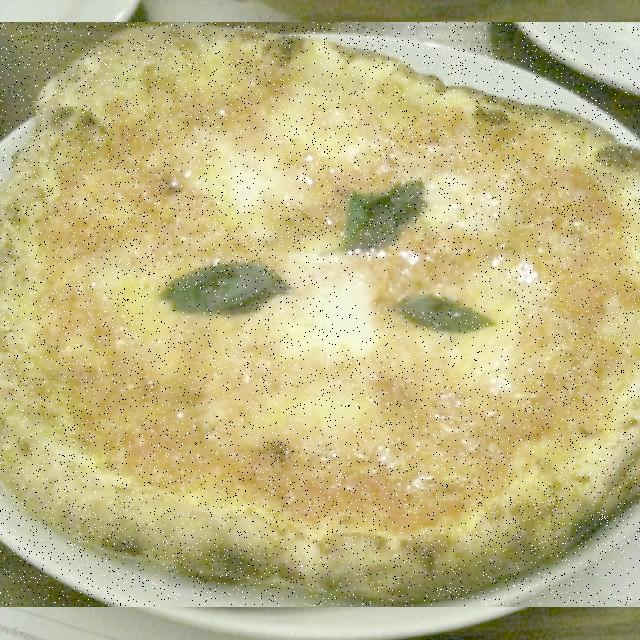Basil: (213, 178, 301, 254), (357, 258, 476, 310), (150, 290, 243, 330)
Pizza: (0, 23, 640, 606)
